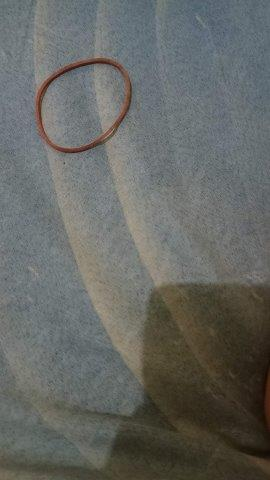karet: (34, 58, 132, 154)
